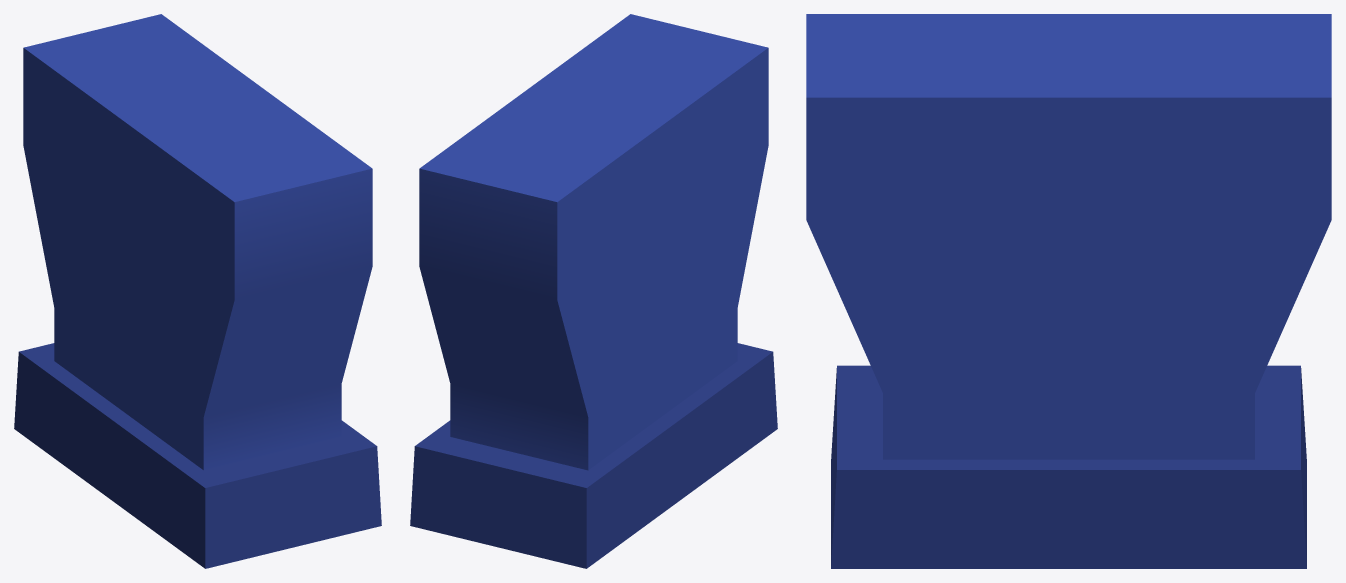
Rendered from Pipe_1_D_5.fbx.
3 renders of one model, left to right at view 1: azimuth 30°, elevation 25°; view 2: azimuth 150°, elevation 25°; view 3: azimuth 270°, elevation 25°, orthographic. The views are drawn at different scales.
Visible parts, largest first — view 1: Pipe_1_D_5; view 2: Pipe_1_D_5; view 3: Pipe_1_D_5.
Boxes of the visible parts, x1,y1,x2,y2 form: Pipe_1_D_5: (14, 14, 381, 568); Pipe_1_D_5: (410, 14, 777, 568); Pipe_1_D_5: (806, 14, 1331, 568).
Bounding box in the file's own units: 17 × 34.01 × 35.24.
